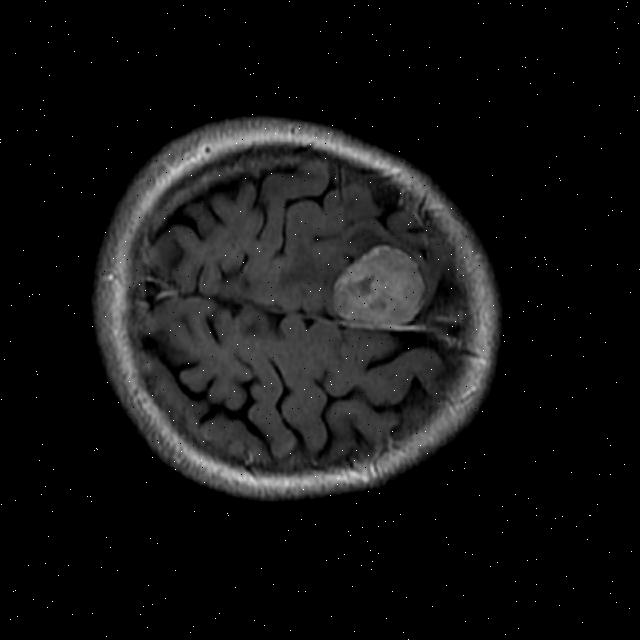Meningioma: (329, 242, 429, 327)
